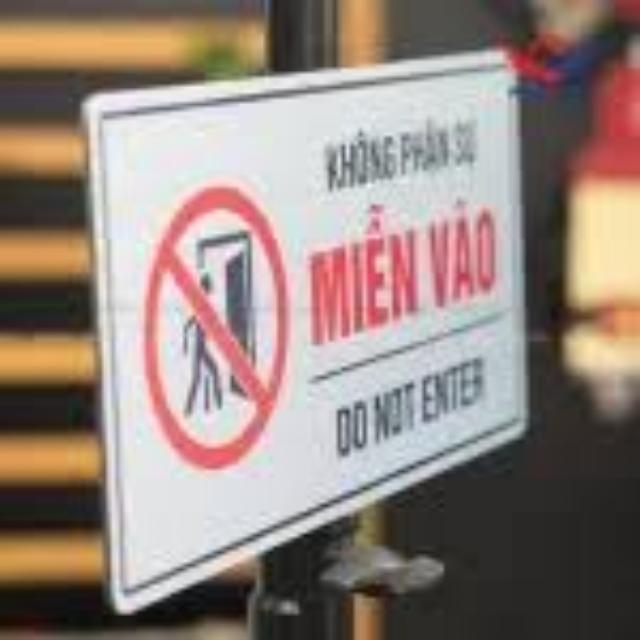no_entry: (85, 51, 521, 610)
